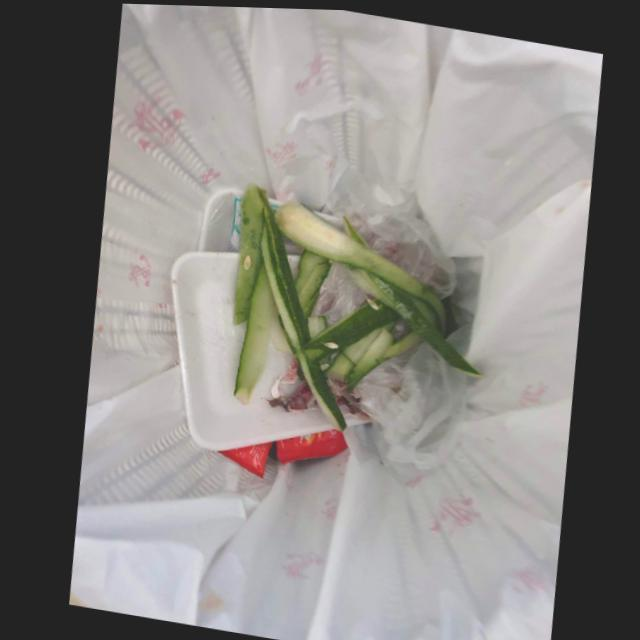biowaste: (258, 201, 343, 431), (336, 260, 482, 376), (275, 200, 421, 297), (323, 316, 418, 390), (299, 295, 398, 361), (231, 252, 273, 403), (230, 186, 263, 324), (293, 247, 329, 322)
styrofoam: (168, 249, 330, 450)
wrapper: (272, 427, 343, 462), (213, 440, 269, 477)
